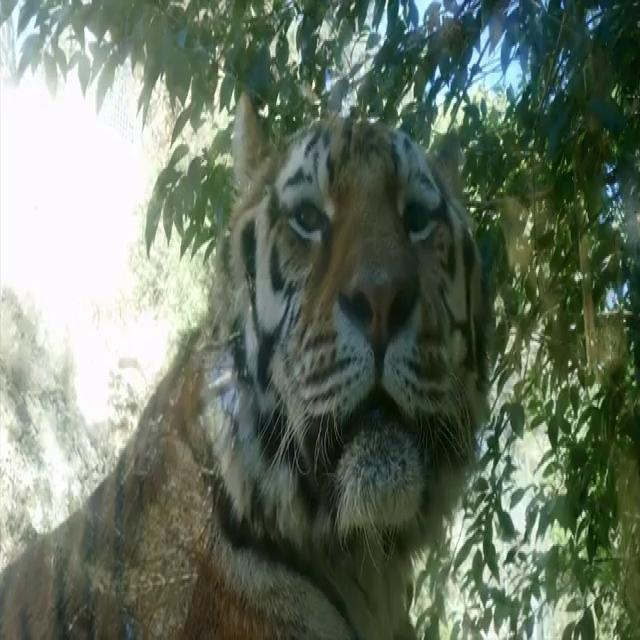tiger: (1, 89, 494, 640)
